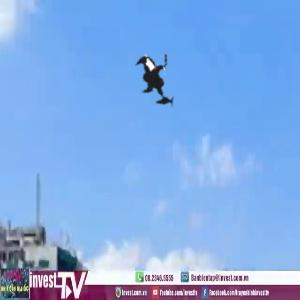drone: (117, 36, 206, 125)
